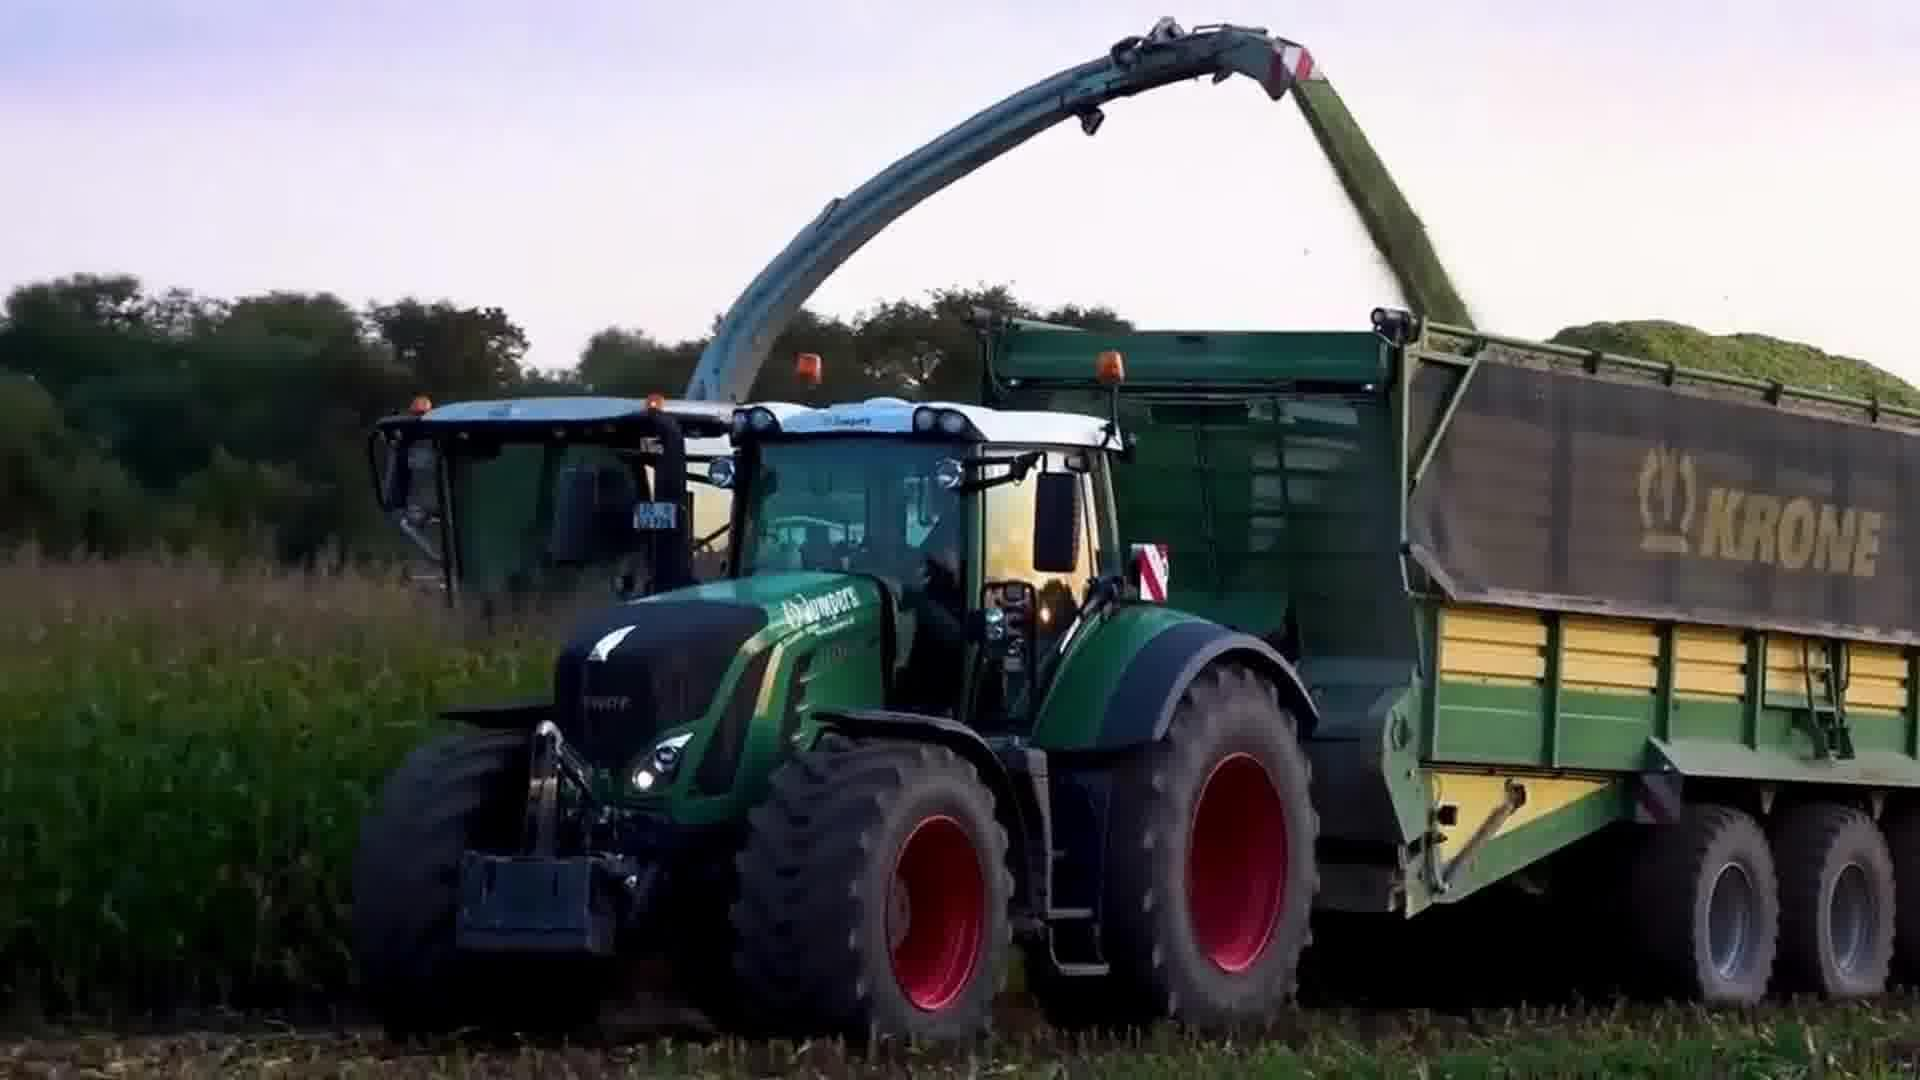combine harvester: (359, 14, 1334, 679)
tractor: (320, 347, 1330, 1054)
trailer: (958, 295, 1920, 1024)
